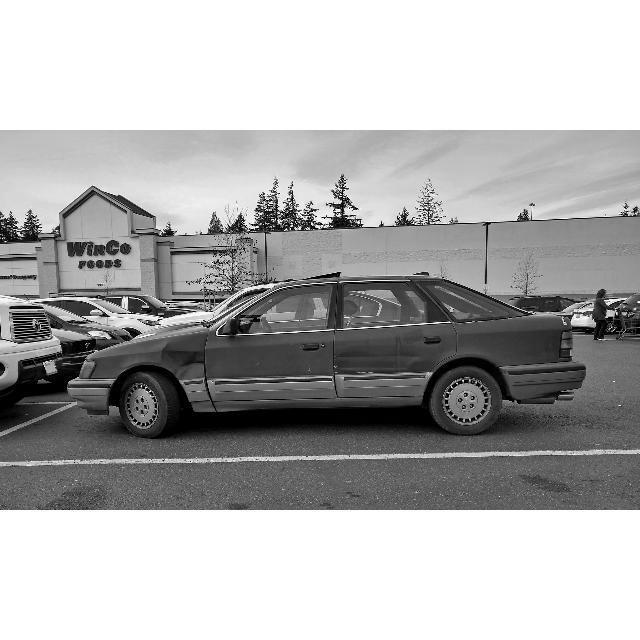doorouter-dent: (337, 326, 453, 406)
fender-dent: (105, 341, 218, 394)
